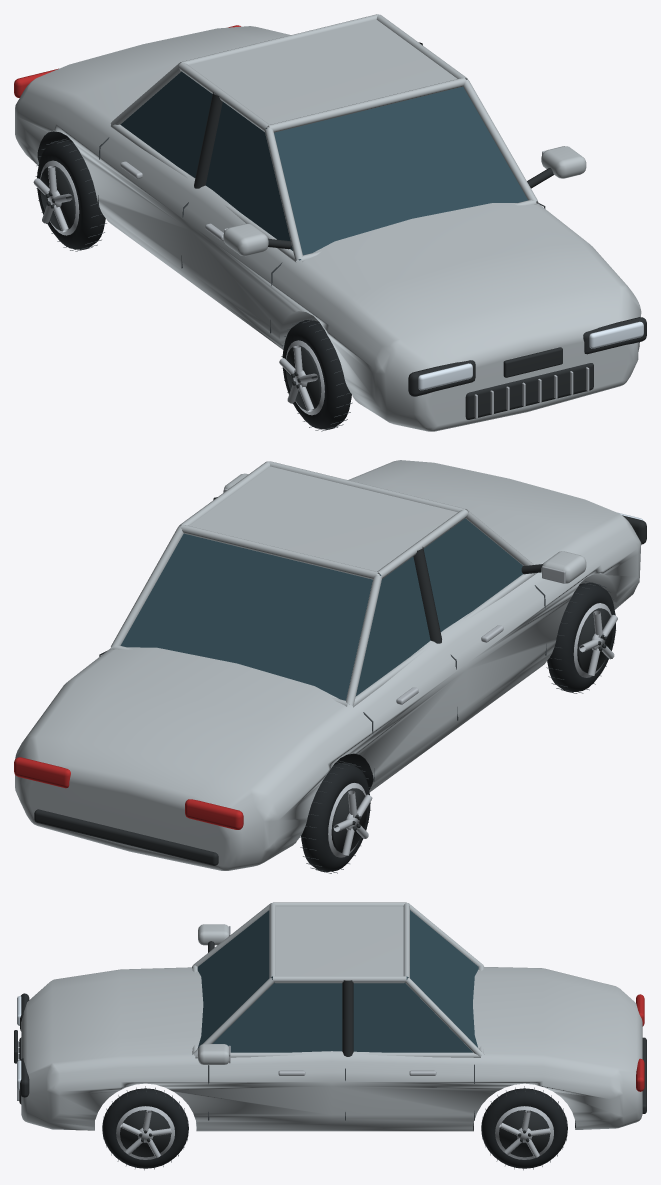
Rendered from vehicle-sedan.glb.
3 views of the same model, one above another, from view 1: azimuth 30°, elevation 25°; view 2: azimuth 150°, elevation 25°; view 3: azimuth 270°, elevation 25° (orthographic). The views are drawn at different scales.
Parts seen in each view (by area): view 1: vehicle-sedan_MATERIAL_BATCH; view 2: vehicle-sedan_MATERIAL_BATCH; view 3: vehicle-sedan_MATERIAL_BATCH.
Part boxes in pixels (box(x1,y1,x2,y2)): vehicle-sedan_MATERIAL_BATCH: box(14, 14, 646, 431); vehicle-sedan_MATERIAL_BATCH: box(14, 460, 646, 873); vehicle-sedan_MATERIAL_BATCH: box(14, 902, 646, 1170).
Bounding box in the file's own units: 2.32 × 1.48 × 4.74.
